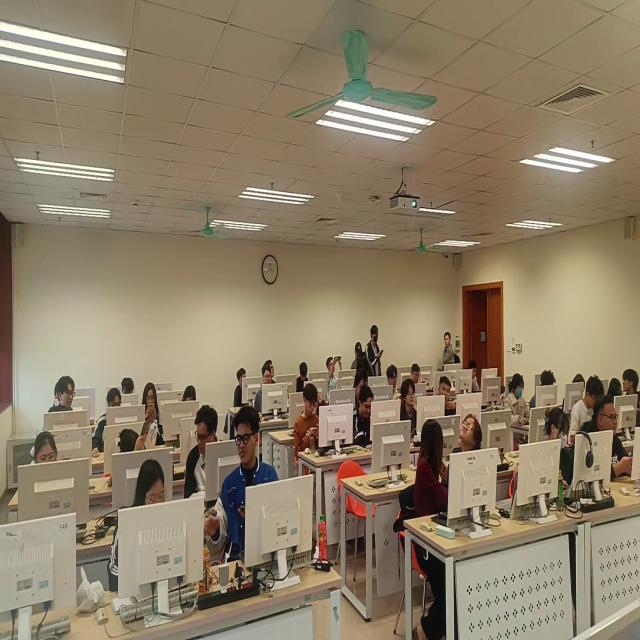raise_head: (401, 380, 418, 439), (388, 366, 401, 401)
stand: (437, 332, 462, 373), (366, 325, 385, 377), (352, 343, 376, 384)
using_computer: (578, 396, 634, 484), (546, 408, 576, 491), (570, 377, 606, 444), (294, 384, 322, 461), (92, 389, 123, 457), (505, 372, 532, 429), (355, 385, 375, 447), (530, 369, 557, 411), (32, 432, 59, 466), (256, 365, 273, 418), (438, 377, 457, 417), (235, 368, 249, 409), (468, 361, 481, 394), (297, 362, 309, 393), (608, 378, 623, 401), (354, 373, 365, 402), (183, 385, 198, 403), (573, 373, 586, 393), (123, 378, 135, 395), (412, 364, 422, 384), (55, 383, 60, 402)
using_phone: (143, 382, 166, 449), (327, 355, 344, 397)
